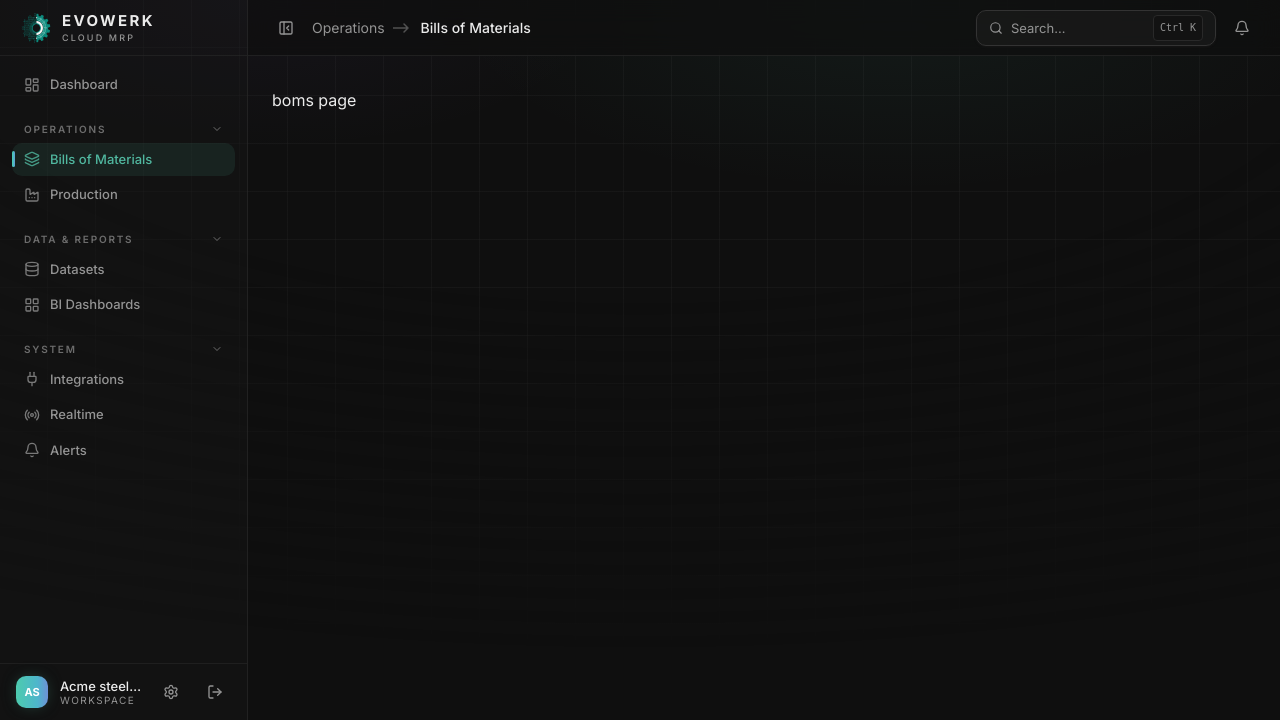
Scenario: AppShell › notifications loads enabled alert rules on open and links to all alerts
Click the button named "Notifications".
click(1242, 28)  # box [1224,10,1260,46]
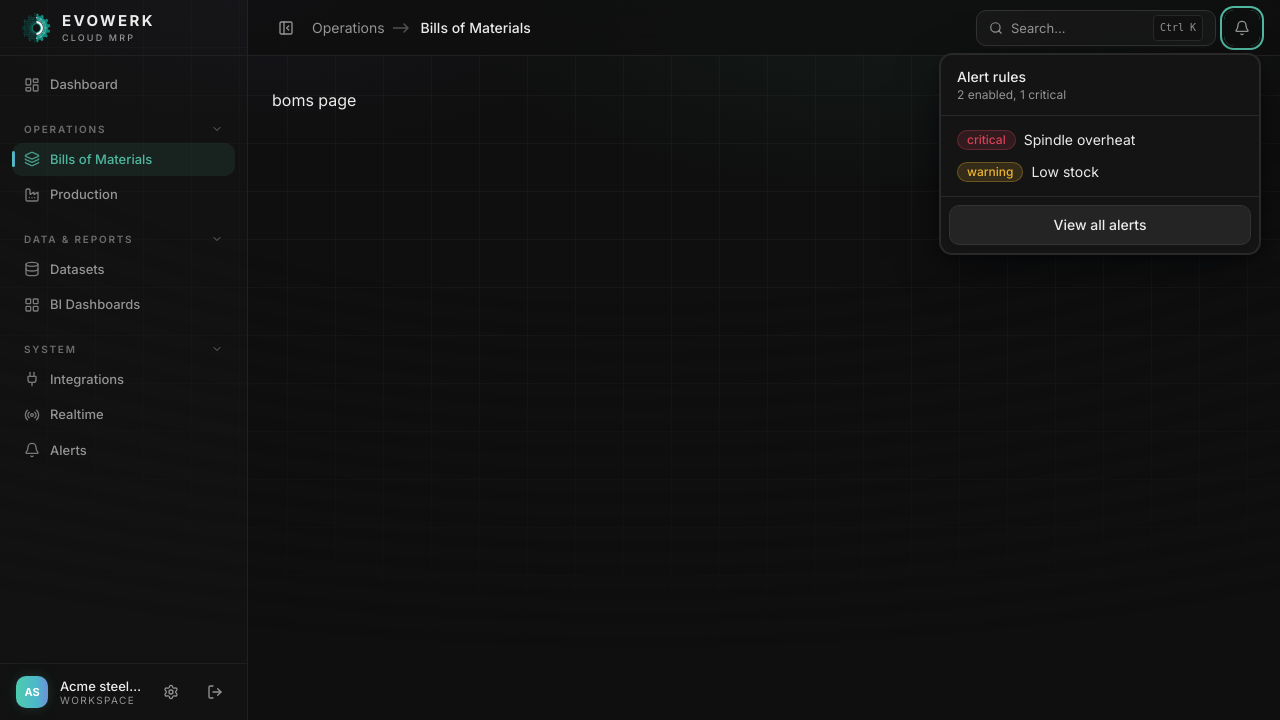
Now the text "2 enabled, 1 critical" is shown, box [957,86,1066,102]
Now the text "Spindle overheat" is shown, box [1024,130,1135,150]
Click the button "View all alerts".
click(1100, 224)  # box [949,204,1251,244]
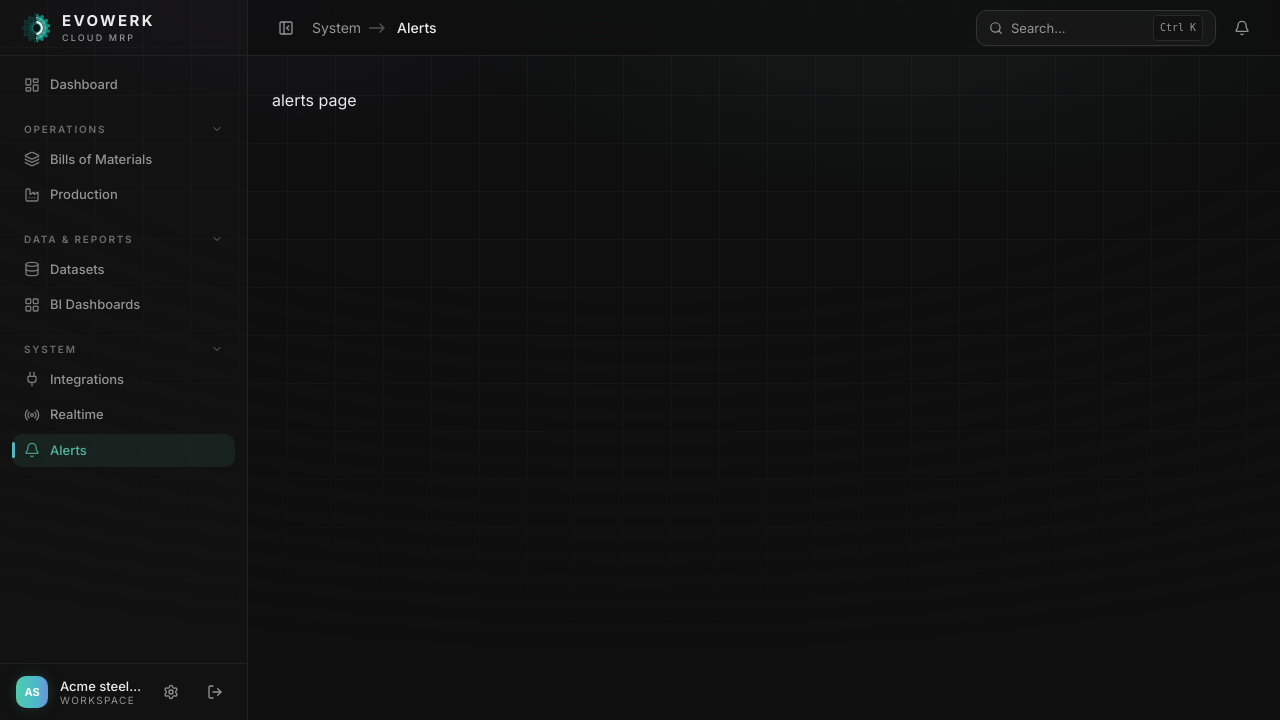
Now the text "alerts page" is shown, box [272,90,357,110]
Now the text "Alert rules" is gone
